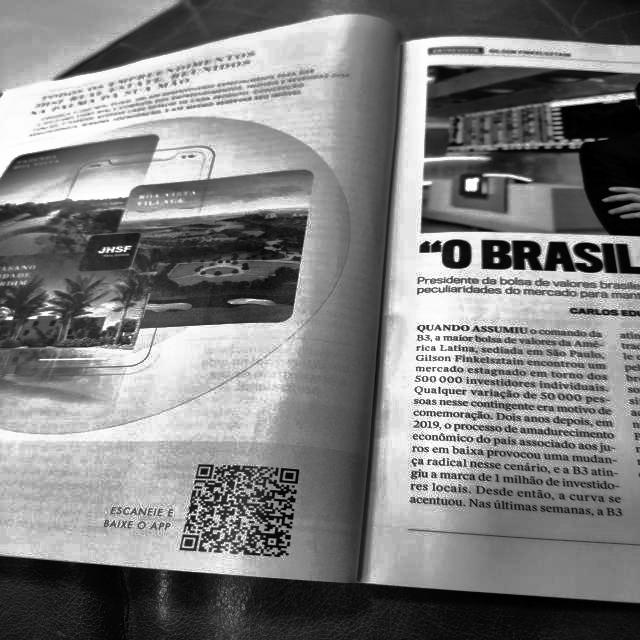qr_code: (180, 464, 299, 557)
